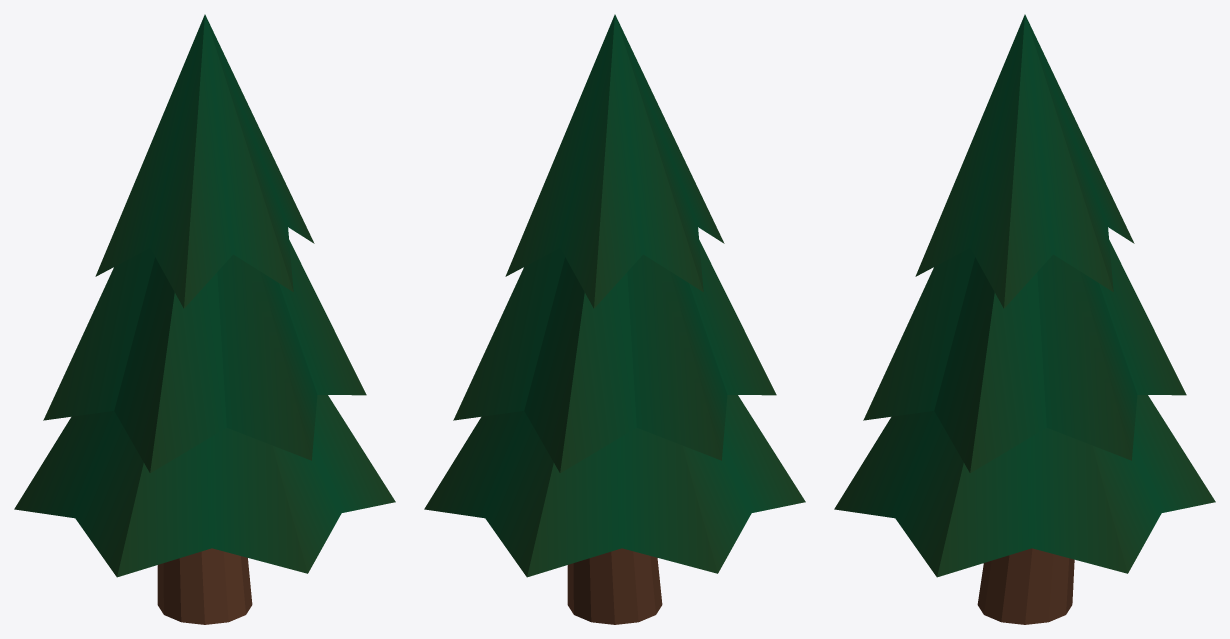
File: tree_3_3.fbx
The picture shows the model from 3 angles, left to right: view 1: azimuth 30°, elevation 25°; view 2: azimuth 150°, elevation 25°; view 3: azimuth 270°, elevation 25°; orthographic projection.
Parts seen in each view (by area): view 1: tree_3_3; view 2: tree_3_3; view 3: tree_3_3.
Boxes of the visible parts, left/top/right/bottom form: tree_3_3: left=14, top=14, right=395, bottom=624; tree_3_3: left=424, top=14, right=805, bottom=624; tree_3_3: left=834, top=14, right=1215, bottom=624.
Bounding box in the file's own units: 1.6 × 1.8 × 3.07.
